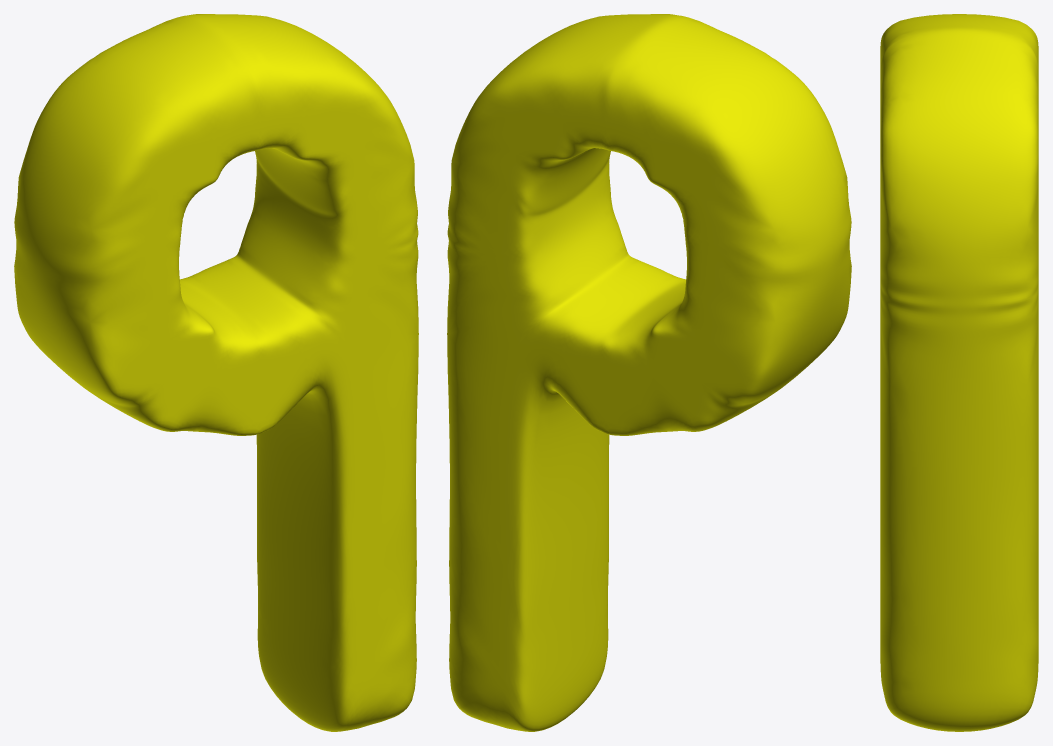
The picture shows the model from 3 angles, left to right: view 1: azimuth 30°, elevation 25°; view 2: azimuth 150°, elevation 25°; view 3: azimuth 270°, elevation 25°; orthographic projection. The views are drawn at different scales.
Visible parts, largest first — view 1: num_9; view 2: num_9; view 3: num_9.
Boxes of the visible parts, <box> form: num_9: <box>14,14,418,731</box>; num_9: <box>447,14,851,731</box>; num_9: <box>880,14,1038,731</box>.
Size of the model in its own units: 4.74 by 8.89 by 2.
